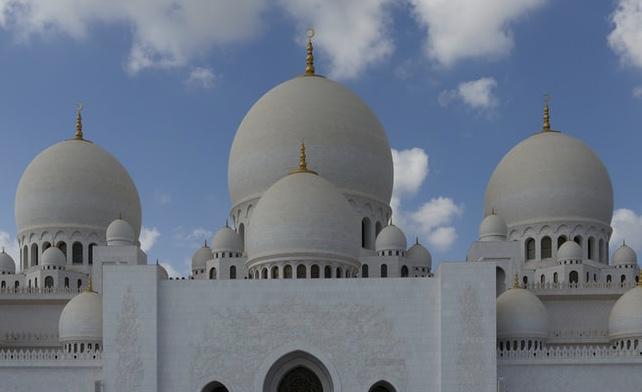Mosque: (25, 37, 636, 379)
